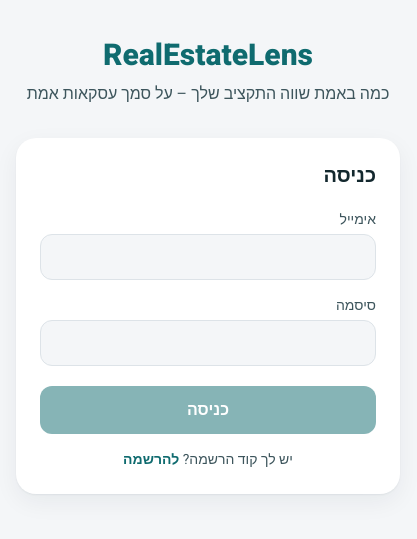
Test case: LoginPage › shows the Hebrew message the server returns
The image size is (417, 539).
Type "a@b.co" into the field labelled "אימייל".
click(208, 257); type("a@b.co")  # box 40,234 -> 376,280
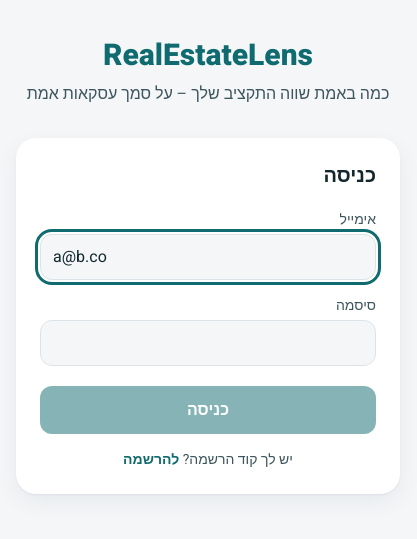
Type "wrong-pass" into the password field labelled "סיסמה".
click(208, 343); type("wrong-pass")  # box 40,320 -> 376,366
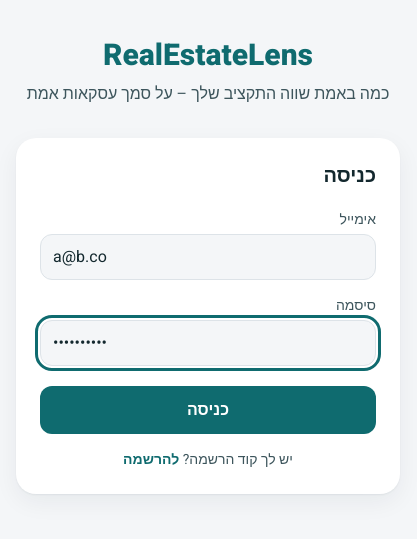
Click the button "כניסה".
click(208, 410)  # box 40,386 -> 376,434
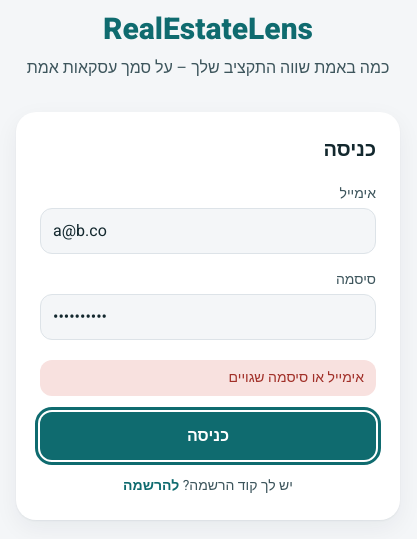
Result: the message reads "אימייל או סיסמה שגויים" at 229,367 -> 364,388
